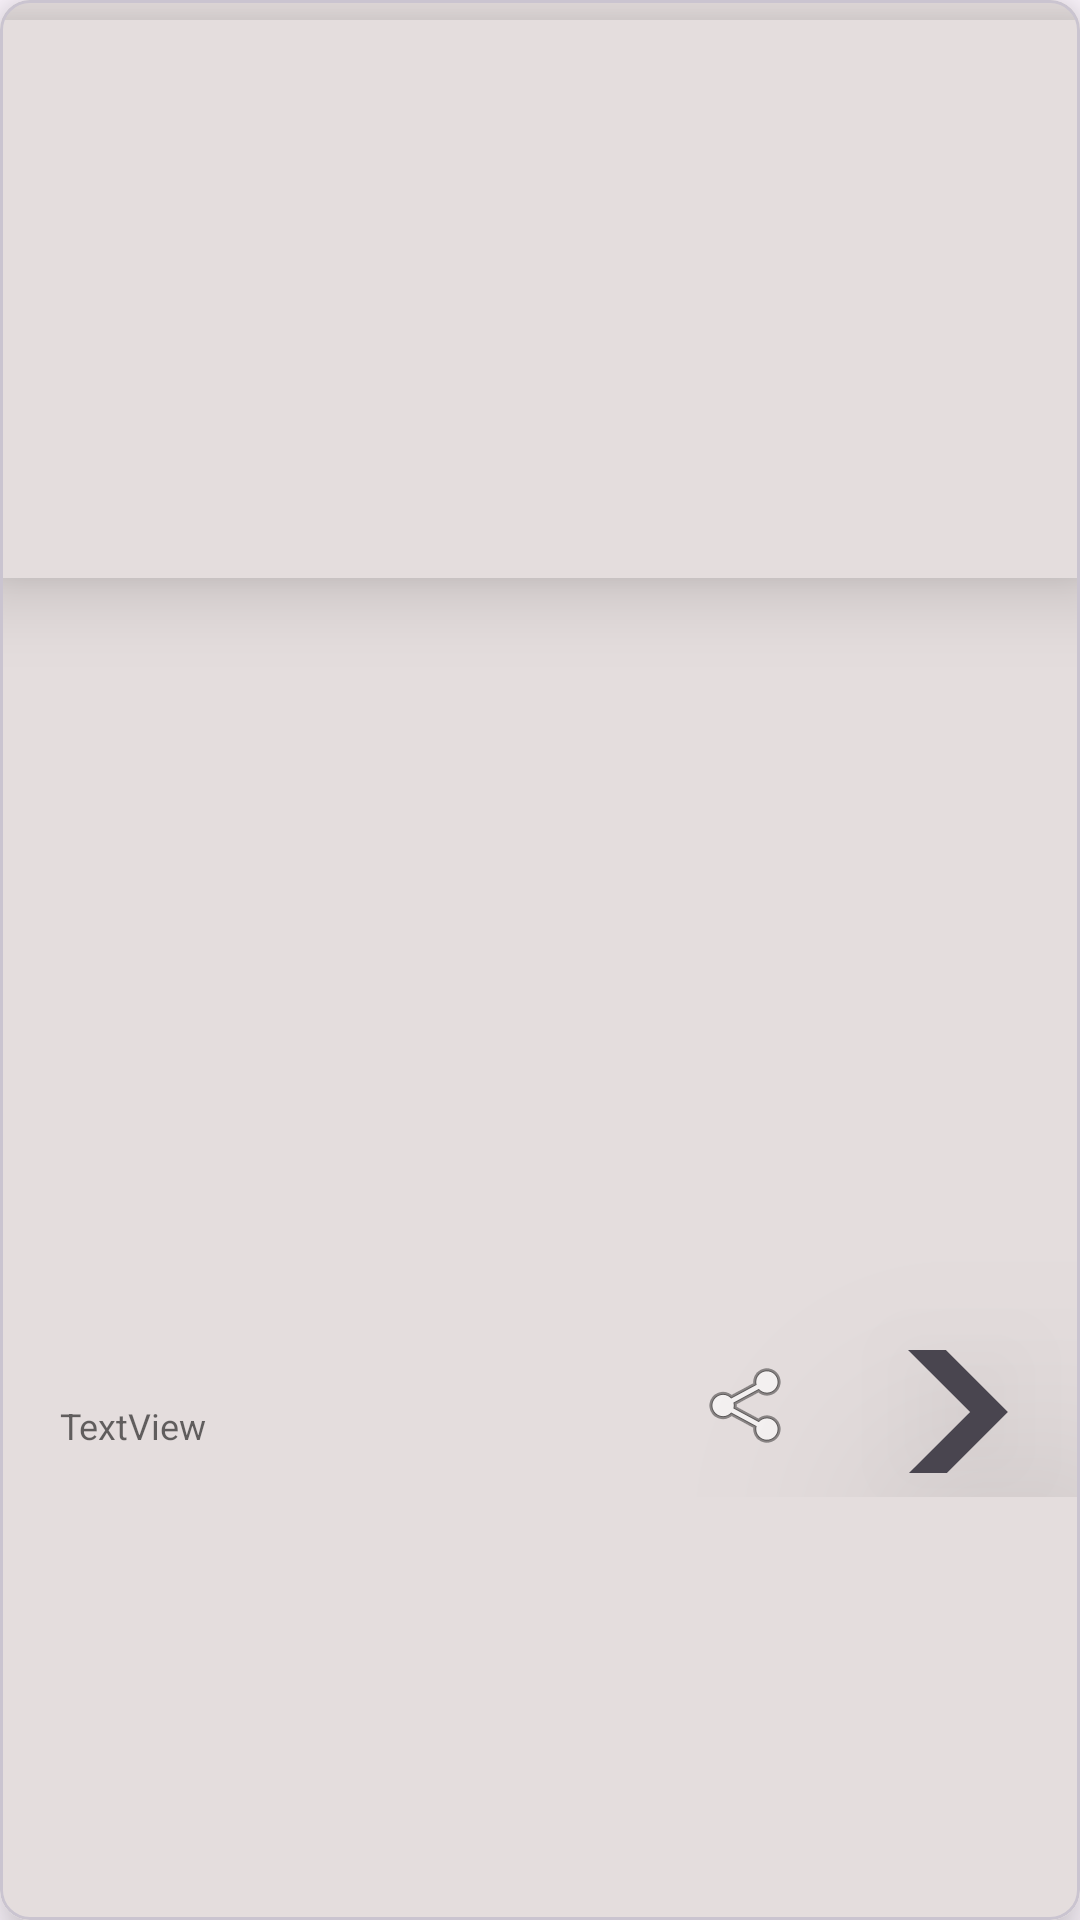

Icons on this 1080 x 1920 Android screen, each with the point to tap as (x,y):
Click to View Details: (958,1411)
Share Button: (745,1405)
